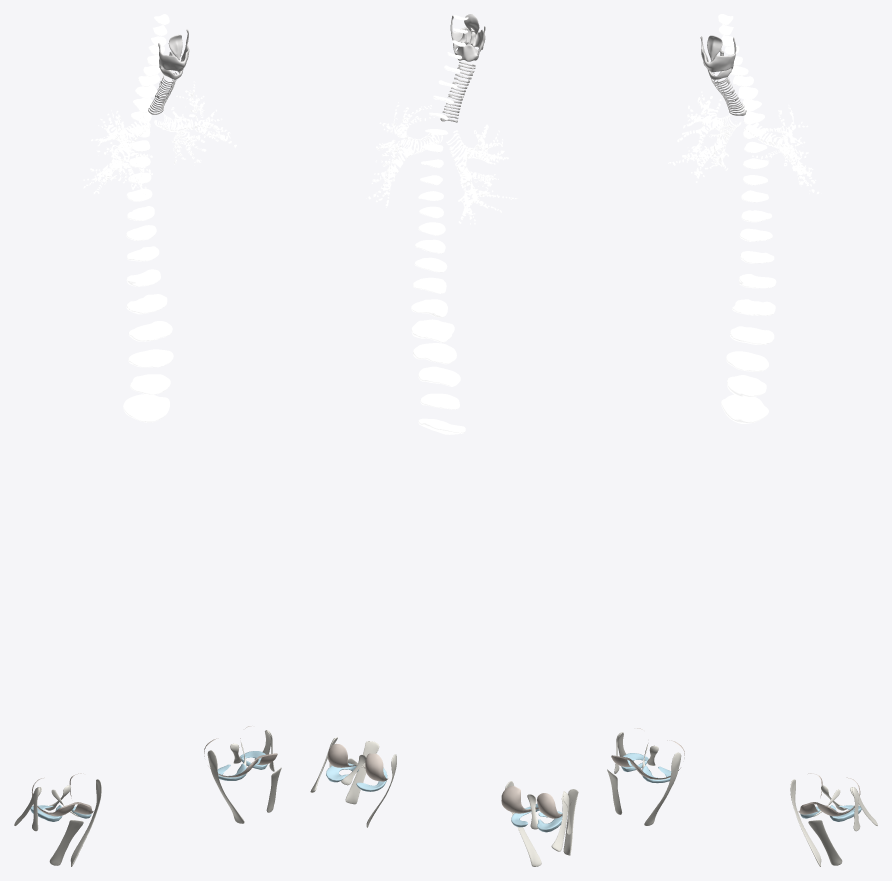
Rendered from female-articular.glb.
The picture shows the model from 3 angles, left to right: view 1: azimuth 30°, elevation 25°; view 2: azimuth 150°, elevation 25°; view 3: azimuth 330°, elevation 25°; orthographic projection.
Visible parts, largest first — view 1: VH_F_cartilage_of_tertiary_bronchus_R, VH_F_cartilage_of_tertiary_bronchus_L, VH_F_intervertebral_disk_of_sixth_lumbar_vertebra, VH_F_intervertebral_disk_of_fifth_lumbar_vertebra, VH_F_intervertebral_disk_of_fourth_lumbar_vertebra, VH_F_intervertebral_disk_of_third_lumbar_vertebra, VH_F_intervertebral_disk_of_second_lumbar_vertebra, VH_F_patellar_ligament_R, VH_F_meniscus_L; view 2: VH_F_cartilage_of_tertiary_bronchus_R, VH_F_cartilage_of_tertiary_bronchus_L, VH_F_tracheal_cartilage, VH_F_intervertebral_disk_of_third_lumbar_vertebra, VH_F_intervertebral_disk_of_second_lumbar_vertebra, VH_F_intervertebral_disk_of_fourth_lumbar_vertebra, VH_F_patellar_ligament_L, VH_F_cartilage_of_lobar_bronchus_R, VH_F_meniscus_L, VH_F_meniscus_R; view 3: VH_F_cartilage_of_tertiary_bronchus_R, VH_F_cartilage_of_tertiary_bronchus_L, VH_F_intervertebral_disk_of_sixth_lumbar_vertebra, VH_F_intervertebral_disk_of_fifth_lumbar_vertebra, VH_F_intervertebral_disk_of_fourth_lumbar_vertebra, VH_F_intervertebral_disk_of_third_lumbar_vertebra, VH_F_tracheal_cartilage, VH_F_intervertebral_disk_of_second_lumbar_vertebra, VH_F_thyroid_cartilage, VH_F_meniscus_R, VH_F_patellar_ligament_L.
Boxes of the visible parts, x1=… form: VH_F_cartilage_of_tertiary_bronchus_R: x1=83, y1=109, x2=152, y2=194; VH_F_cartilage_of_tertiary_bronchus_L: x1=171, y1=81, x2=236, y2=165; VH_F_intervertebral_disk_of_sixth_lumbar_vertebra: x1=123, y1=394, x2=169, y2=422; VH_F_intervertebral_disk_of_fifth_lumbar_vertebra: x1=130, y1=374, x2=170, y2=394; VH_F_intervertebral_disk_of_fourth_lumbar_vertebra: x1=128, y1=349, x2=173, y2=367; VH_F_intervertebral_disk_of_third_lumbar_vertebra: x1=128, y1=321, x2=172, y2=341; VH_F_intervertebral_disk_of_second_lumbar_vertebra: x1=126, y1=294, x2=167, y2=314; VH_F_patellar_ligament_R: x1=49, y1=820, x2=83, y2=865; VH_F_meniscus_L: x1=217, y1=751, x2=267, y2=780; VH_F_cartilage_of_tertiary_bronchus_R: x1=458, y1=124, x2=517, y2=224; VH_F_cartilage_of_tertiary_bronchus_L: x1=366, y1=102, x2=434, y2=207; VH_F_tracheal_cartilage: x1=440, y1=61, x2=475, y2=122; VH_F_intervertebral_disk_of_third_lumbar_vertebra: x1=413, y1=343, x2=456, y2=364; VH_F_intervertebral_disk_of_second_lumbar_vertebra: x1=411, y1=319, x2=454, y2=342; VH_F_intervertebral_disk_of_fourth_lumbar_vertebra: x1=418, y1=366, x2=460, y2=386; VH_F_patellar_ligament_L: x1=345, y1=741, x2=379, y2=804; VH_F_cartilage_of_lobar_bronchus_R: x1=458, y1=144, x2=483, y2=205; VH_F_meniscus_L: x1=326, y1=763, x2=387, y2=791; VH_F_meniscus_R: x1=511, y1=803, x2=562, y2=832; VH_F_cartilage_of_tertiary_bronchus_R: x1=668, y1=91, x2=728, y2=182; VH_F_cartilage_of_tertiary_bronchus_L: x1=752, y1=104, x2=821, y2=194; VH_F_intervertebral_disk_of_sixth_lumbar_vertebra: x1=721, y1=394, x2=768, y2=423; VH_F_intervertebral_disk_of_fifth_lumbar_vertebra: x1=727, y1=375, x2=766, y2=397; VH_F_intervertebral_disk_of_fourth_lumbar_vertebra: x1=726, y1=351, x2=768, y2=371; VH_F_intervertebral_disk_of_third_lumbar_vertebra: x1=730, y1=326, x2=774, y2=344; VH_F_tracheal_cartilage: x1=711, y1=73, x2=746, y2=115; VH_F_intervertebral_disk_of_second_lumbar_vertebra: x1=732, y1=299, x2=775, y2=315; VH_F_thyroid_cartilage: x1=700, y1=36, x2=736, y2=72; VH_F_meniscus_R: x1=621, y1=753, x2=671, y2=783; VH_F_patellar_ligament_L: x1=808, y1=820, x2=842, y2=865.
Size of the model in its own units: 0.3571 by 1.13 by 0.1326.
